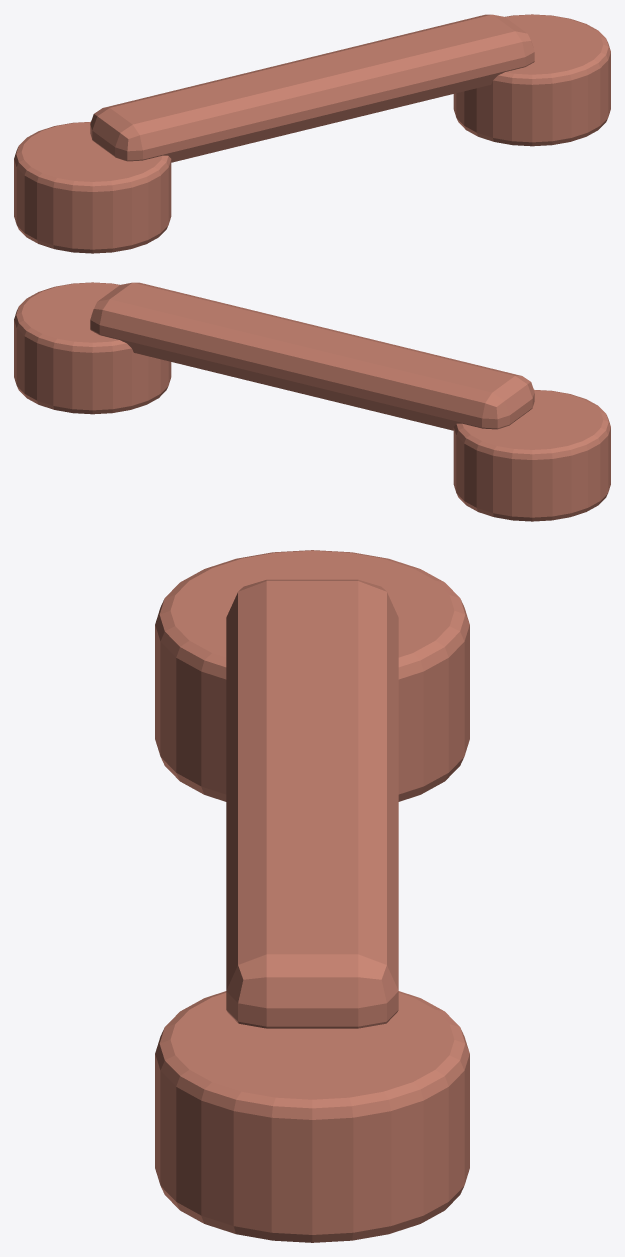
File: telephone_receiver.glb
3 renders of one model, top to bottom at view 1: azimuth 30°, elevation 25°; view 2: azimuth 150°, elevation 25°; view 3: azimuth 270°, elevation 25°, orthographic. The views are drawn at different scales.
Visible parts, largest first — view 1: ReceiverMesh; view 2: ReceiverMesh; view 3: ReceiverMesh.
Boxes of the visible parts, x1,y1,x2,y2 form: ReceiverMesh: (14,14,610,253); ReceiverMesh: (14,282,610,521); ReceiverMesh: (155,550,469,1242).
Size of the model in its own units: 0.262 by 0.0455 by 0.062.
